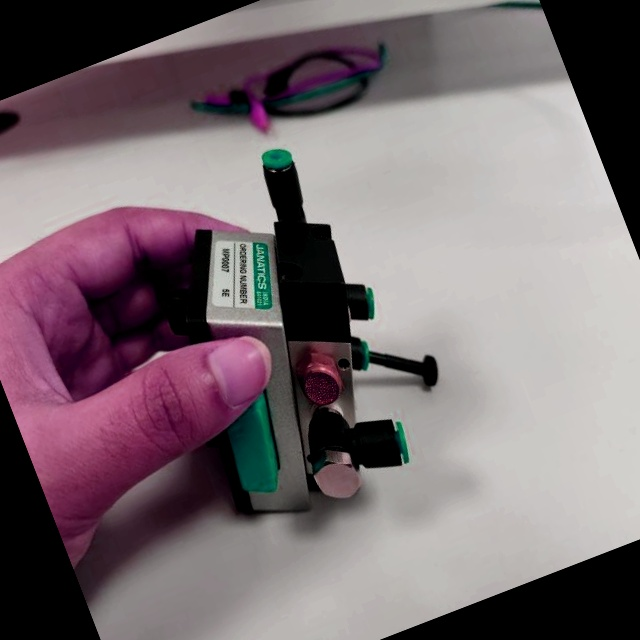5by2 DCV: (107, 100, 482, 550)
